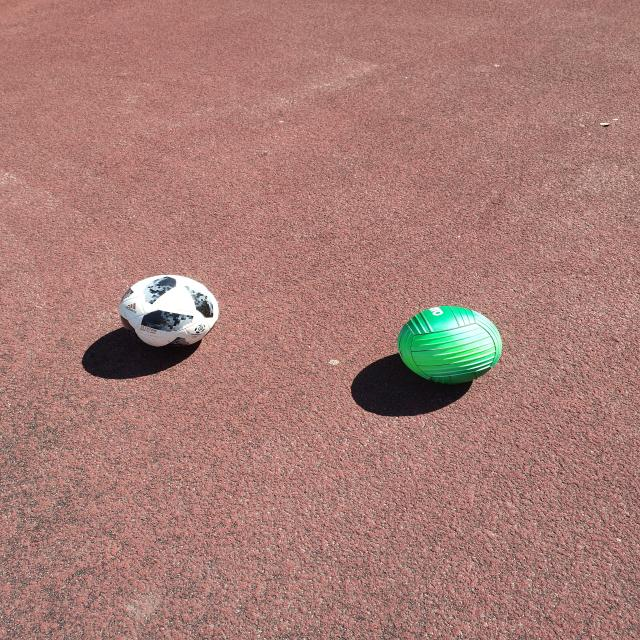nozna: (119, 275, 218, 348)
zielona: (397, 306, 502, 384)
